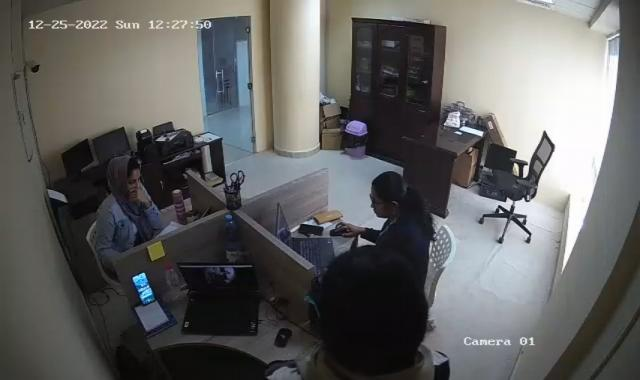no_hairnet: (309, 253, 428, 365), (363, 168, 411, 220), (105, 155, 147, 190)
